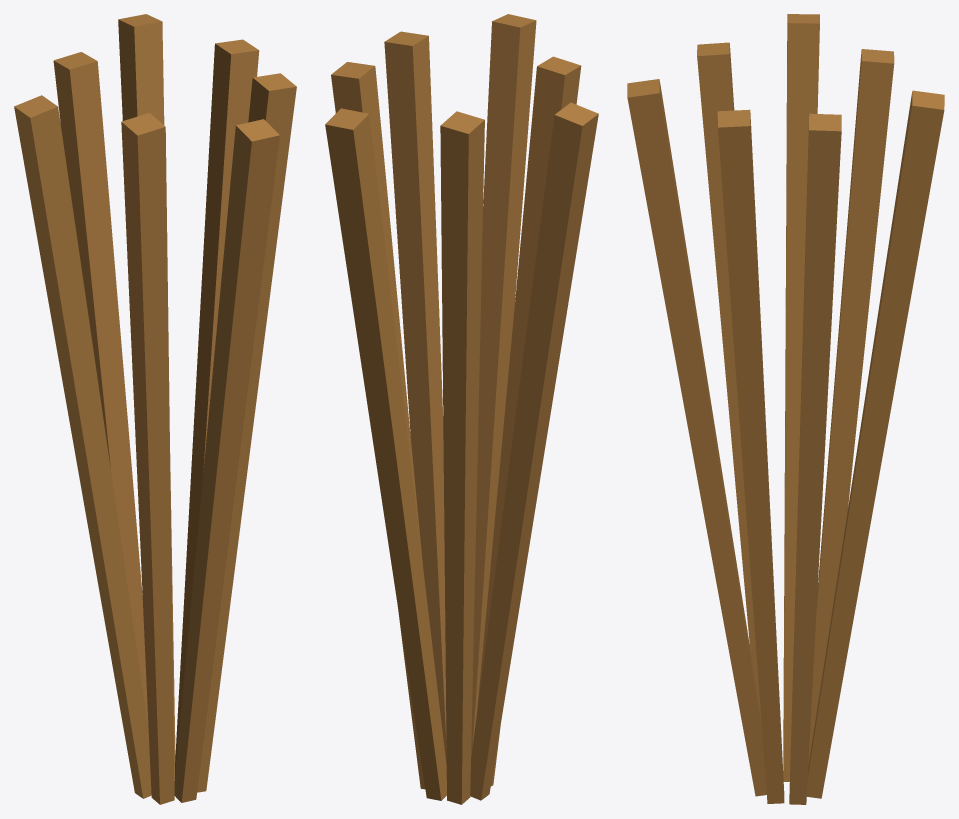
File: SM_Cook_ChopstickBundle_01.obj
3 views of the same model, side by side, from view 1: azimuth 30°, elevation 25°; view 2: azimuth 150°, elevation 25°; view 3: azimuth 270°, elevation 25° (orthographic).
Parts seen in each view (by area): view 1: SM_Cook_ChopstickBundle_01; view 2: SM_Cook_ChopstickBundle_01; view 3: SM_Cook_ChopstickBundle_01.
Part boxes in pixels (x1,y1,x2,y2): SM_Cook_ChopstickBundle_01: (14, 14, 296, 804); SM_Cook_ChopstickBundle_01: (325, 14, 598, 804); SM_Cook_ChopstickBundle_01: (627, 14, 944, 804).
Size of the model in its own units: 0.0851 by 0.2415 by 0.0973.
Materials: 1 (1 with a texture image).
